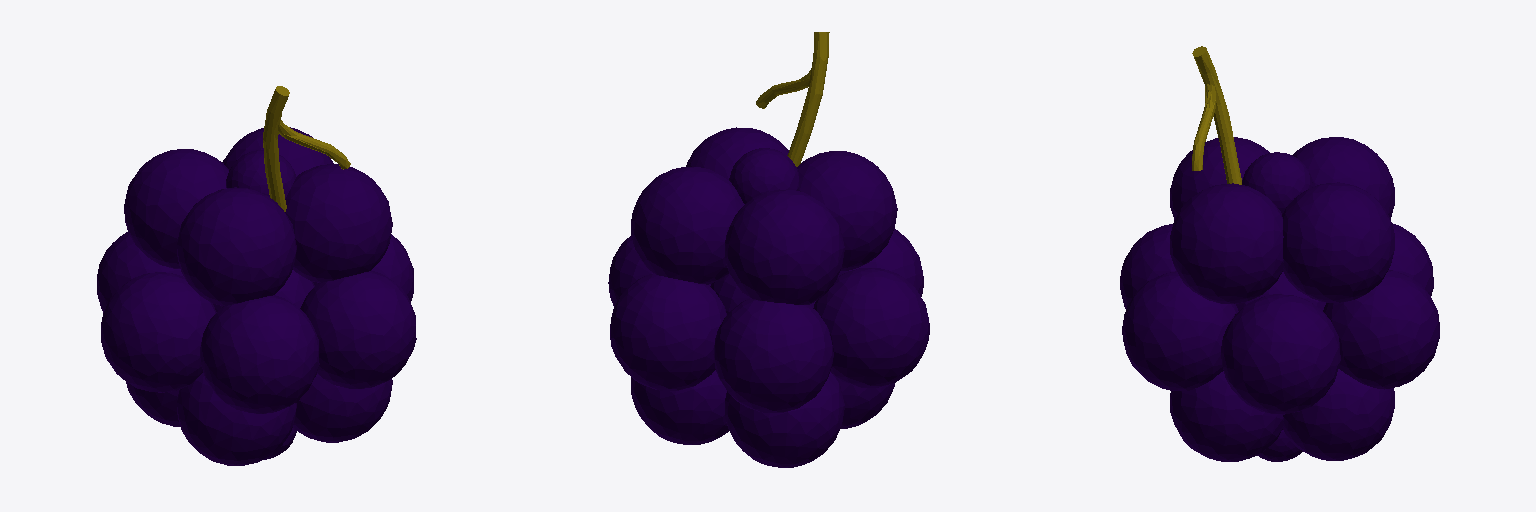
File: Grape.obj
3 views of the same model, side by side, from view 1: azimuth 30°, elevation 25°; view 2: azimuth 150°, elevation 25°; view 3: azimuth 270°, elevation 25° (orthographic).
Parts seen in each view (by area): view 1: 球.022, 球.029, 球.026, 球.030, 球.023, 球.021, 球.033, 球.034, eda.001, 球.025, 球.020, 球.012 (+3 smaller); view 2: 球.021, 球.025, 球.024, 球.026, 球.020, 球.022, 球.032, 球.031, eda.001, 球.012, 球.023, 球.029 (+3 smaller); view 3: 球.028, 球.023, 球.020, 球.030, 球.024, 球.031, 球.034, 球.021, eda.001, 球.022, 球.012, 球.029 (+3 smaller).
Part boxes in pixels (bbox=[...]): 球.022: bbox=[177, 187, 296, 305]; 球.029: bbox=[200, 295, 319, 413]; 球.026: bbox=[101, 272, 216, 392]; 球.030: bbox=[300, 270, 416, 388]; 球.023: bbox=[285, 164, 392, 282]; 球.021: bbox=[124, 149, 228, 268]; 球.033: bbox=[177, 373, 296, 465]; 球.034: bbox=[293, 374, 392, 442]; eda.001: bbox=[263, 86, 350, 211]; 球.025: bbox=[97, 232, 183, 312]; 球.020: bbox=[222, 127, 333, 176]; 球.012: bbox=[226, 150, 295, 198]; 球.021: bbox=[725, 189, 844, 304]; 球.025: bbox=[713, 298, 833, 412]; 球.024: bbox=[610, 274, 726, 390]; 球.026: bbox=[813, 268, 929, 387]; 球.020: bbox=[631, 167, 744, 284]; 球.022: bbox=[797, 151, 897, 270]; 球.032: bbox=[725, 372, 844, 467]; 球.031: bbox=[631, 370, 728, 444]; eda.001: bbox=[756, 32, 829, 166]; 球.012: bbox=[729, 148, 799, 203]; 球.023: bbox=[686, 127, 788, 179]; 球.029: bbox=[838, 229, 923, 296]; 球.028: bbox=[1221, 294, 1340, 414]; 球.023: bbox=[1170, 183, 1283, 303]; 球.020: bbox=[1282, 182, 1394, 302]; 球.030: bbox=[1122, 271, 1238, 390]; 球.024: bbox=[1323, 270, 1439, 389]; 球.031: bbox=[1283, 369, 1394, 460]; 球.034: bbox=[1170, 371, 1283, 461]; 球.021: bbox=[1292, 137, 1394, 218]; eda.001: bbox=[1192, 46, 1241, 184]; 球.022: bbox=[1170, 137, 1269, 219]; 球.012: bbox=[1242, 152, 1312, 214]; 球.029: bbox=[1120, 224, 1175, 308].
Size of the model in its own units: 0.8041 by 1.02 by 0.7397.